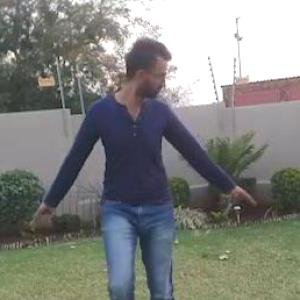land: (3, 52, 255, 299)
